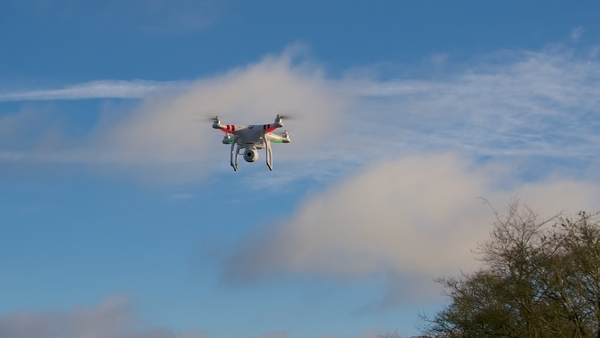drone: (200, 113, 299, 174)
